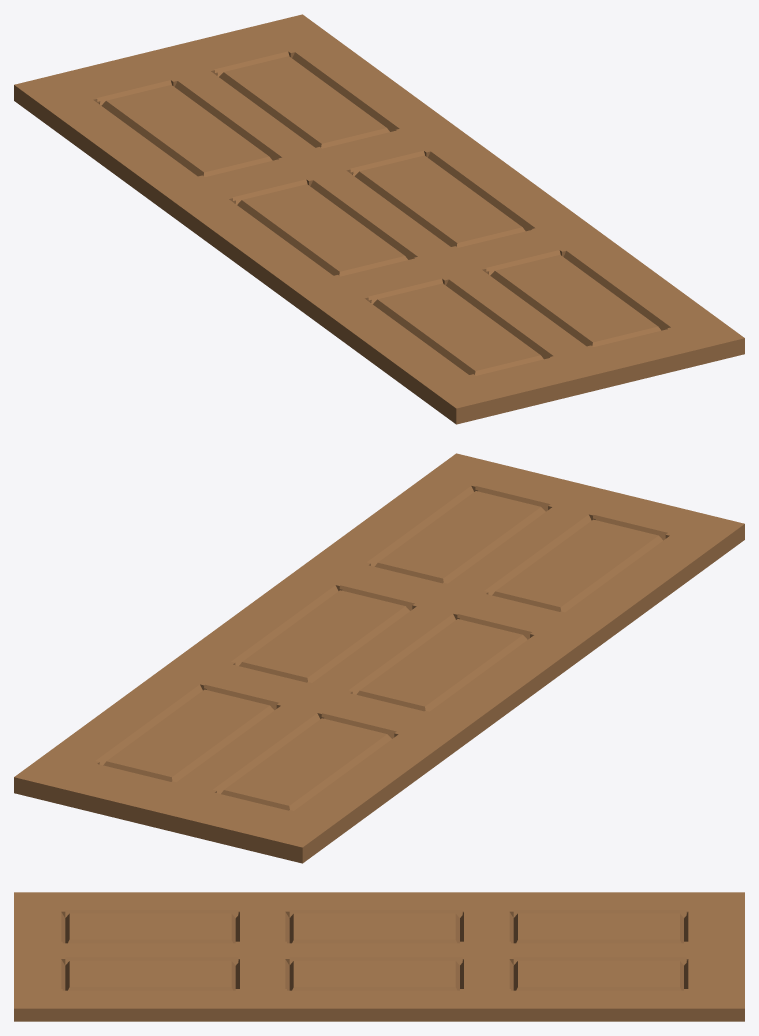
The model's file is Door.fbx.
3 views of the same model, one above another, from view 1: azimuth 30°, elevation 25°; view 2: azimuth 150°, elevation 25°; view 3: azimuth 270°, elevation 25° (orthographic). The views are drawn at different scales.
Visible parts, largest first — view 1: group_0_11107152; view 2: group_0_11107152; view 3: group_0_11107152.
Boxes of the visible parts, bbox=[...] form: group_0_11107152: bbox=[14, 14, 744, 424]; group_0_11107152: bbox=[14, 453, 744, 863]; group_0_11107152: bbox=[14, 892, 744, 1021].
Bounding box in the file's own units: 113 × 6 × 300.
